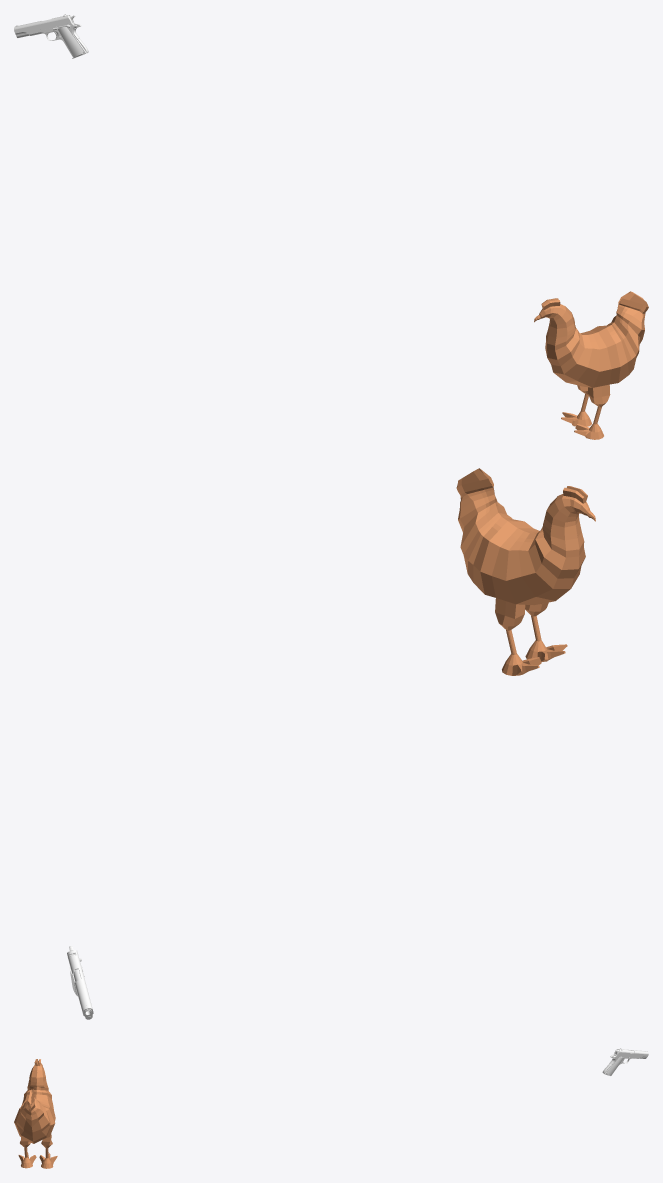
Rendered from tote.glb.
3 views of the same model, one above another, from view 1: azimuth 30°, elevation 25°; view 2: azimuth 150°, elevation 25°; view 3: azimuth 270°, elevation 25° (orthographic). The views are drawn at different scales.
Visible parts, largest first — view 1: Cubo.005, pCylinder5; view 2: Cubo.005, pCylinder5; view 3: Cubo.005, pCylinder5.
Part boxes in pixels (x1,y1,x2,y2): Cubo.005: (534,291,648,439); pCylinder5: (14,14,88,58); Cubo.005: (456,468,595,675); pCylinder5: (67,946,93,1019); Cubo.005: (14,1059,57,1168); pCylinder5: (602,1048,648,1075).
Bounding box in the file's own units: 1.9 × 1.37 × 8.32.
